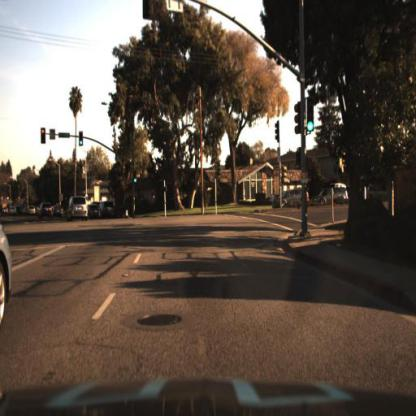car: (0, 173, 21, 355), (0, 188, 16, 347), (269, 180, 311, 212), (270, 185, 311, 211), (316, 182, 350, 213), (309, 184, 349, 207), (66, 192, 89, 224), (33, 197, 58, 226), (100, 197, 116, 223), (35, 201, 54, 222), (87, 199, 102, 222)
trafficLight-Green: (304, 96, 314, 132), (77, 128, 84, 146), (306, 120, 314, 135), (77, 134, 83, 150), (134, 174, 139, 190), (132, 172, 137, 184)
trafficLight-RedLeft: (38, 126, 46, 146), (39, 126, 46, 142)
